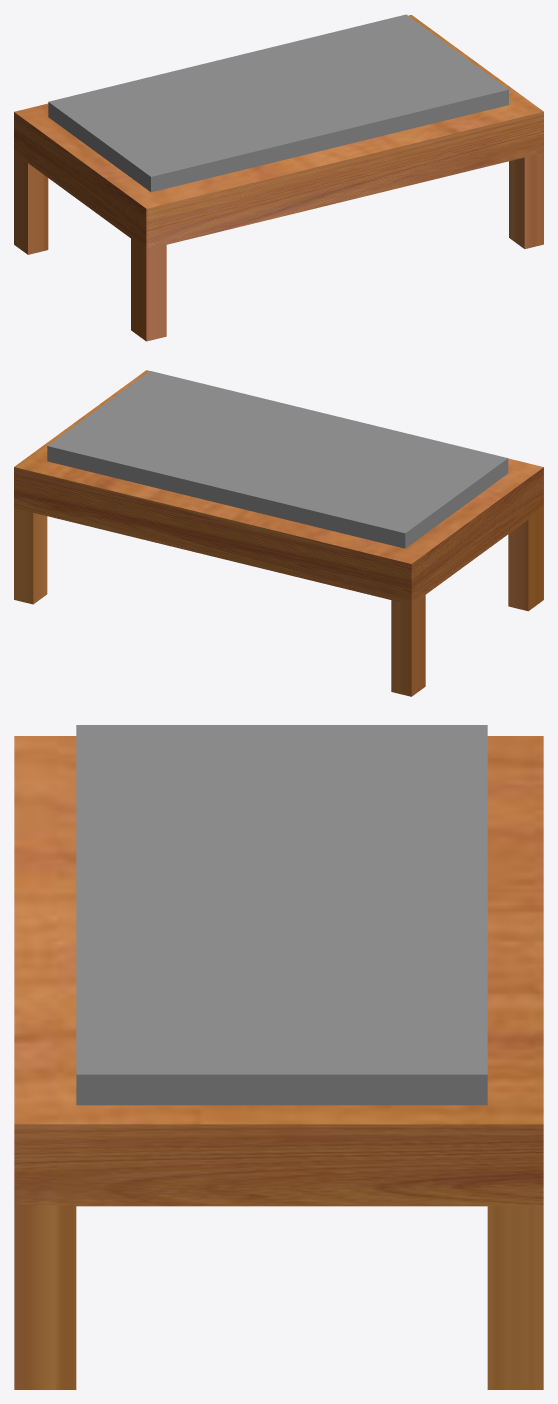
The model's file is Cama.fbx.
3 renders of one model, top to bottom at view 1: azimuth 30°, elevation 25°; view 2: azimuth 150°, elevation 25°; view 3: azimuth 270°, elevation 25°, orthographic. The views are drawn at different scales.
Parts seen in each view (by area): view 1: Cube; view 2: Cube; view 3: Cube.
Part boxes in pixels (x1,y1,x2,y2): Cube: (14,14,543,341); Cube: (14,370,543,696); Cube: (14,725,543,1389).
Size of the model in its own units: 347 by 124 by 200.
2 materials, 1 textured.
